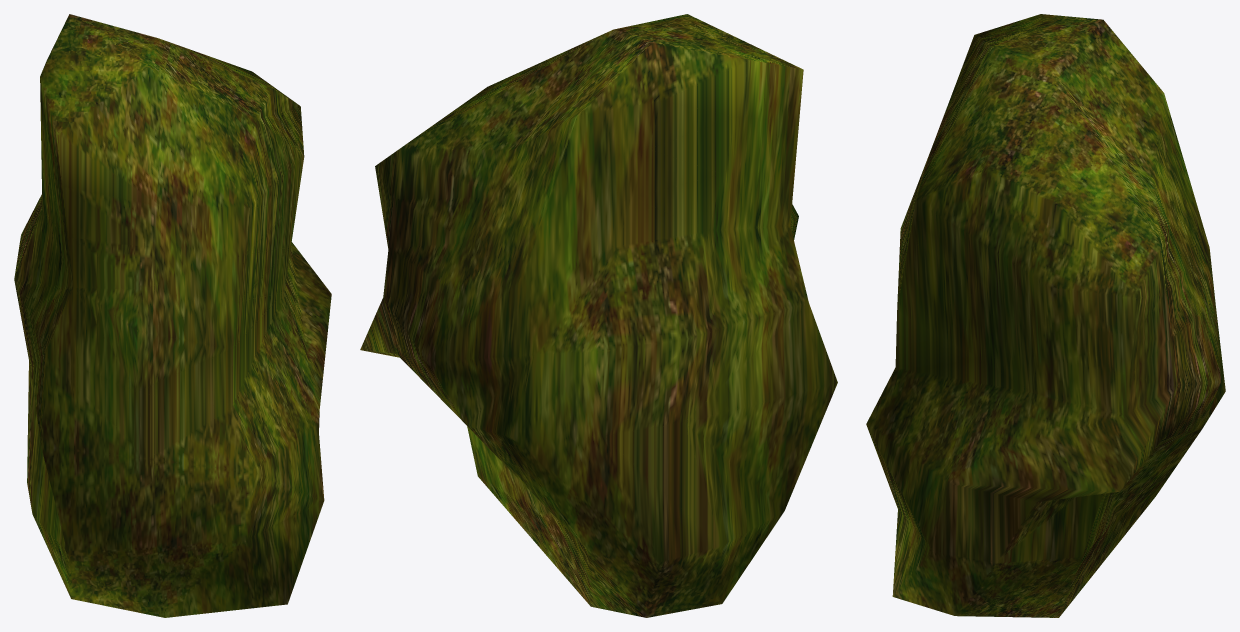
File: TROLLHOLE02_ZRM_PSURF105.fbx
The picture shows the model from 3 angles, left to right: view 1: azimuth 30°, elevation 25°; view 2: azimuth 150°, elevation 25°; view 3: azimuth 270°, elevation 25°; orthographic projection. The views are drawn at different scales.
Visible parts, largest first — view 1: TROLLHOLE02_ZRM_PSURF105; view 2: TROLLHOLE02_ZRM_PSURF105; view 3: TROLLHOLE02_ZRM_PSURF105.
Boxes of the visible parts, bbox=[...] form: TROLLHOLE02_ZRM_PSURF105: bbox=[14, 14, 331, 617]; TROLLHOLE02_ZRM_PSURF105: bbox=[360, 14, 837, 617]; TROLLHOLE02_ZRM_PSURF105: bbox=[866, 14, 1225, 617].
Size of the model in its own units: 52541 by 77182 by 44951.
1 material, 1 textured.
